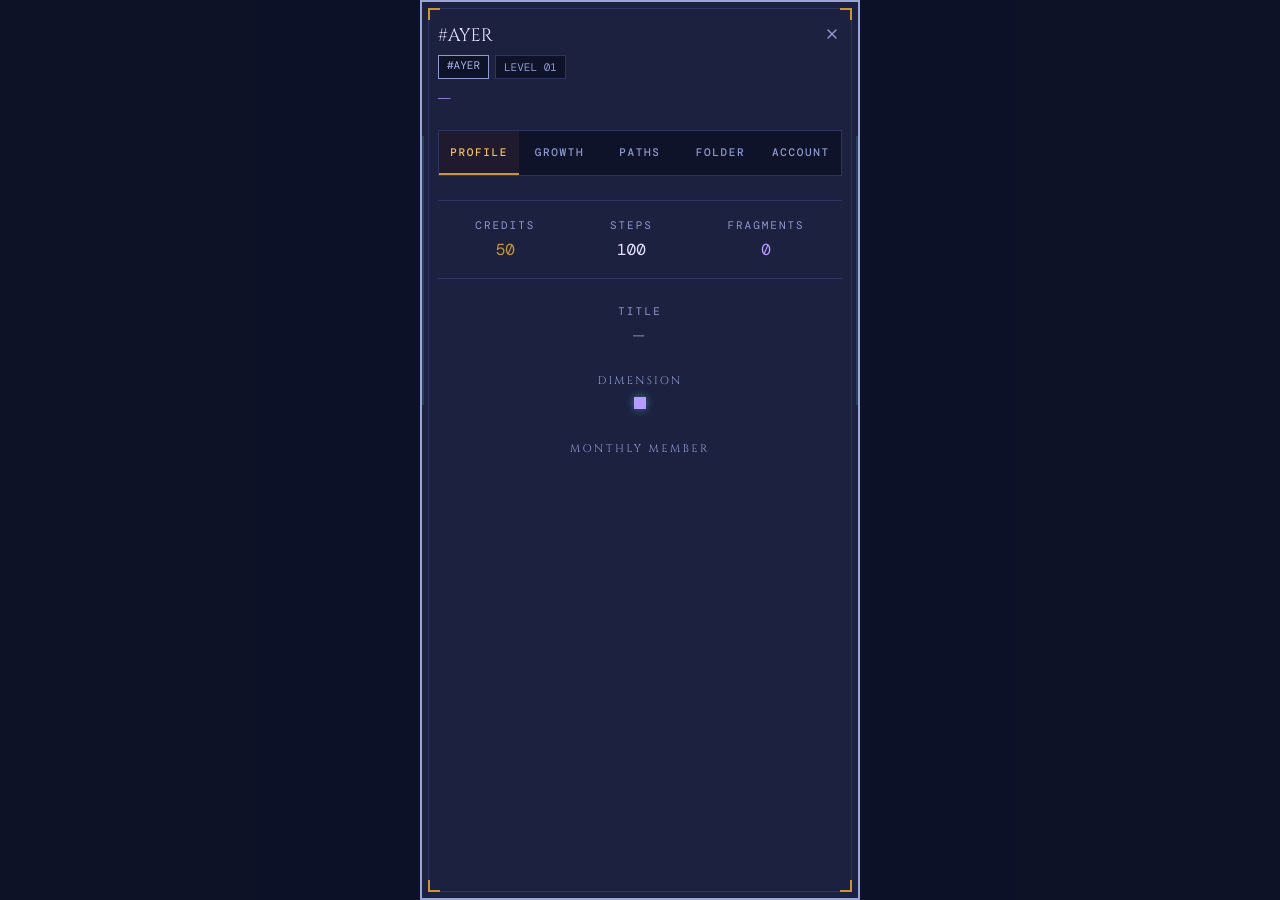
it: words do not consume drop capacity and appear with their full text in found order
Click the button "FOLDER": {"x": 720, "y": 153} [680,131,761,175]
(page scrolled)
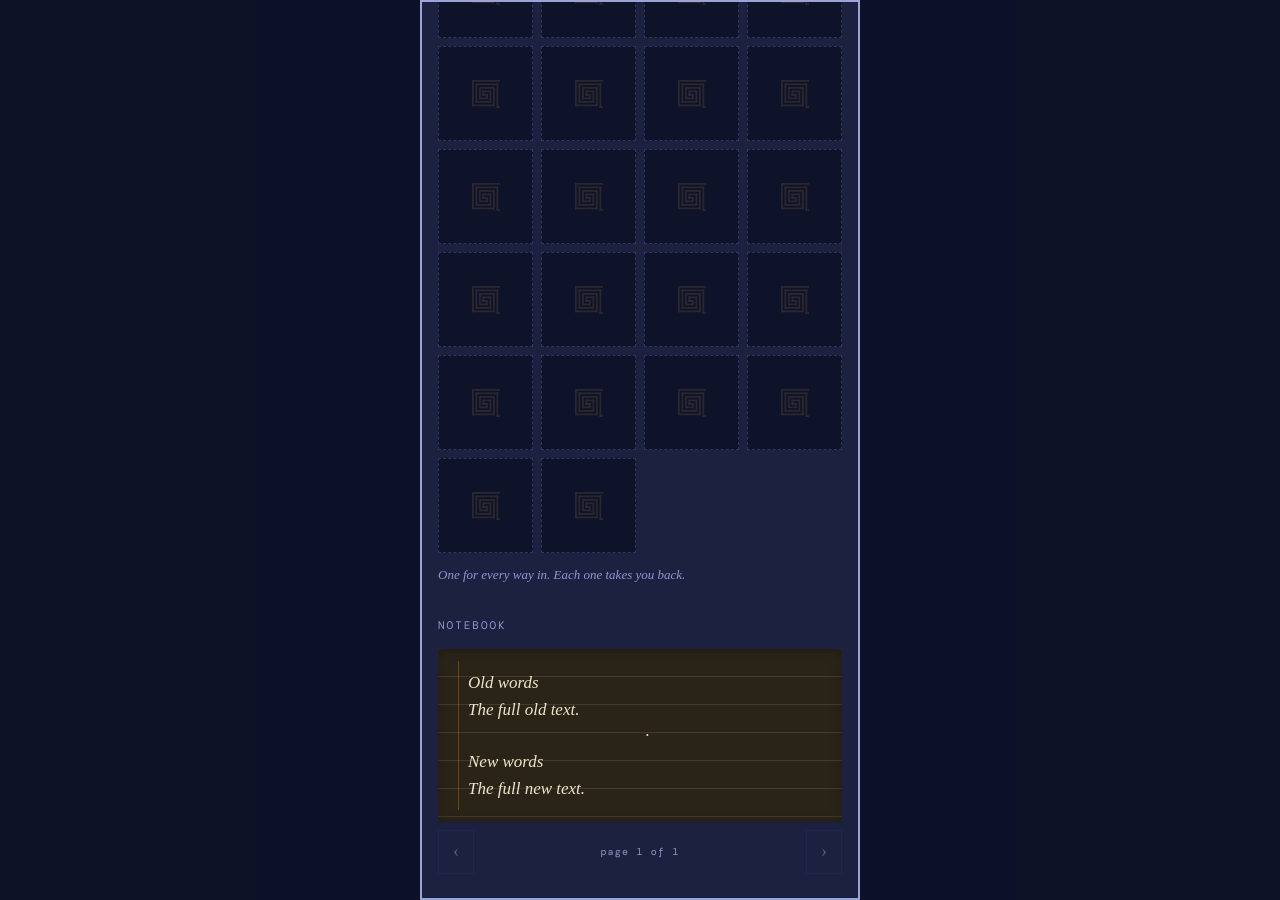
Result: the text "The full new text." is shown at [468,779,585,798]
Result: the headings read "Old words", "New words", in this order at [468,673,539,692]; [468,752,543,771]
